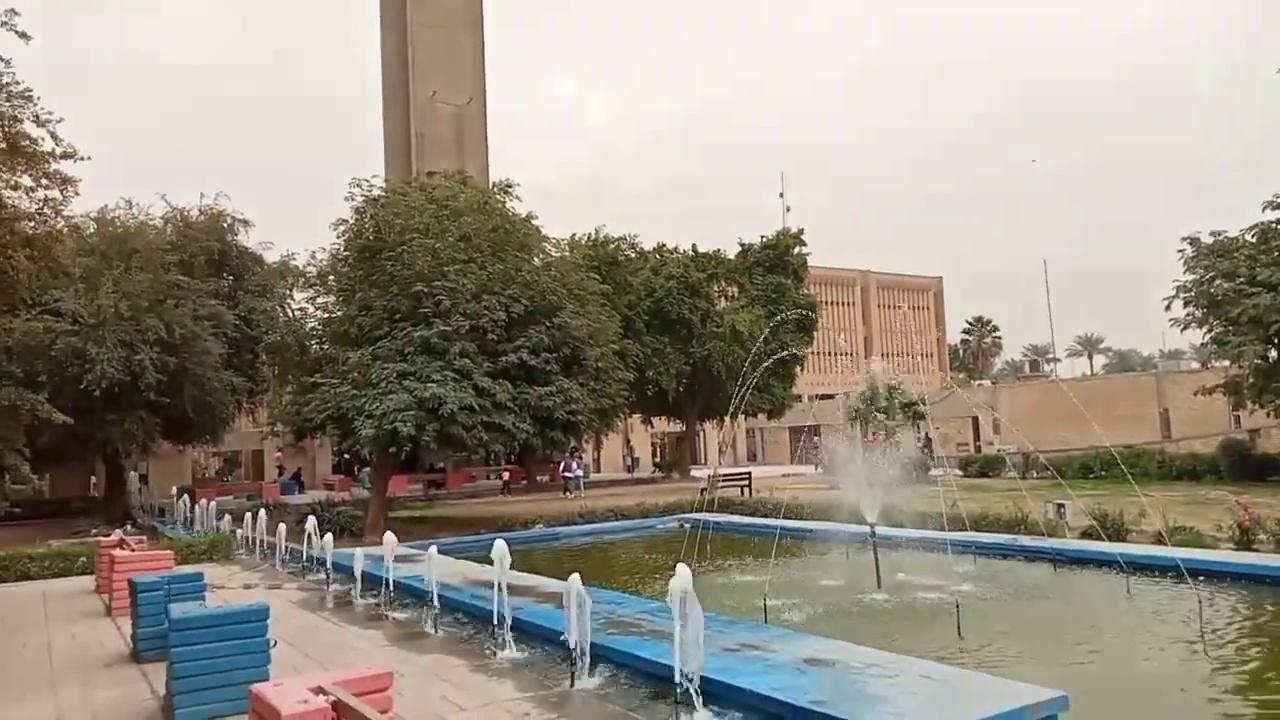fountain: (117, 487, 1276, 718), (152, 490, 734, 717), (664, 560, 706, 710), (484, 536, 526, 659), (559, 571, 593, 686)
person: (558, 451, 576, 498), (571, 450, 585, 497), (125, 467, 140, 508), (624, 439, 637, 476), (288, 465, 304, 494), (498, 468, 512, 496), (273, 446, 285, 478), (217, 457, 232, 481), (921, 431, 933, 458), (89, 472, 98, 497)
tree: (259, 166, 622, 542), (2, 189, 275, 529), (627, 223, 819, 476), (148, 189, 304, 484), (0, 5, 91, 496), (551, 224, 705, 476), (1161, 190, 1279, 428), (844, 372, 929, 468), (1192, 369, 1252, 430), (954, 313, 1002, 380), (1064, 330, 1112, 375), (1019, 341, 1060, 374), (1101, 346, 1146, 374)
